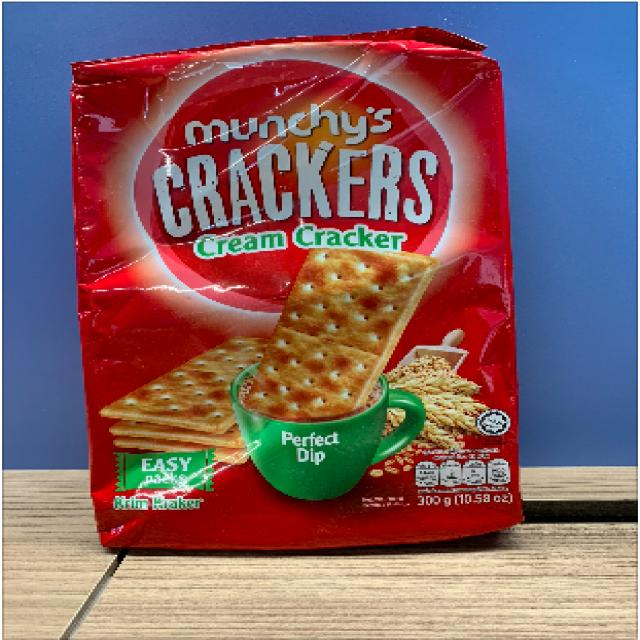object_name: (76, 58, 516, 533)
